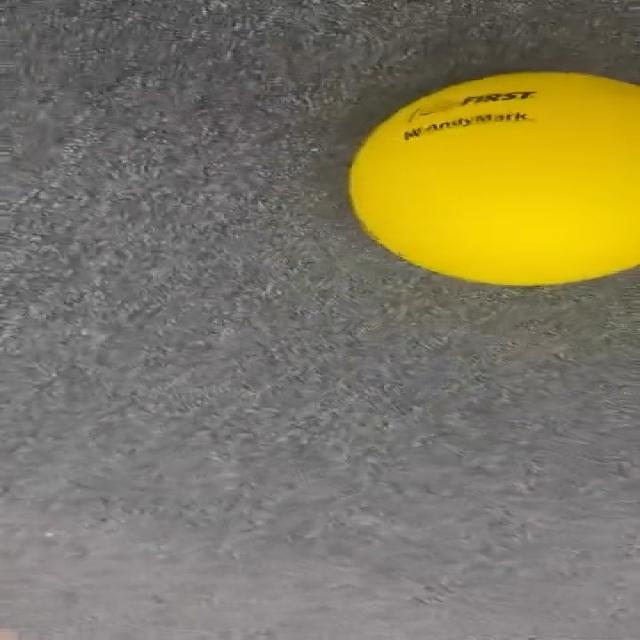Fuels: (342, 68, 640, 289)
